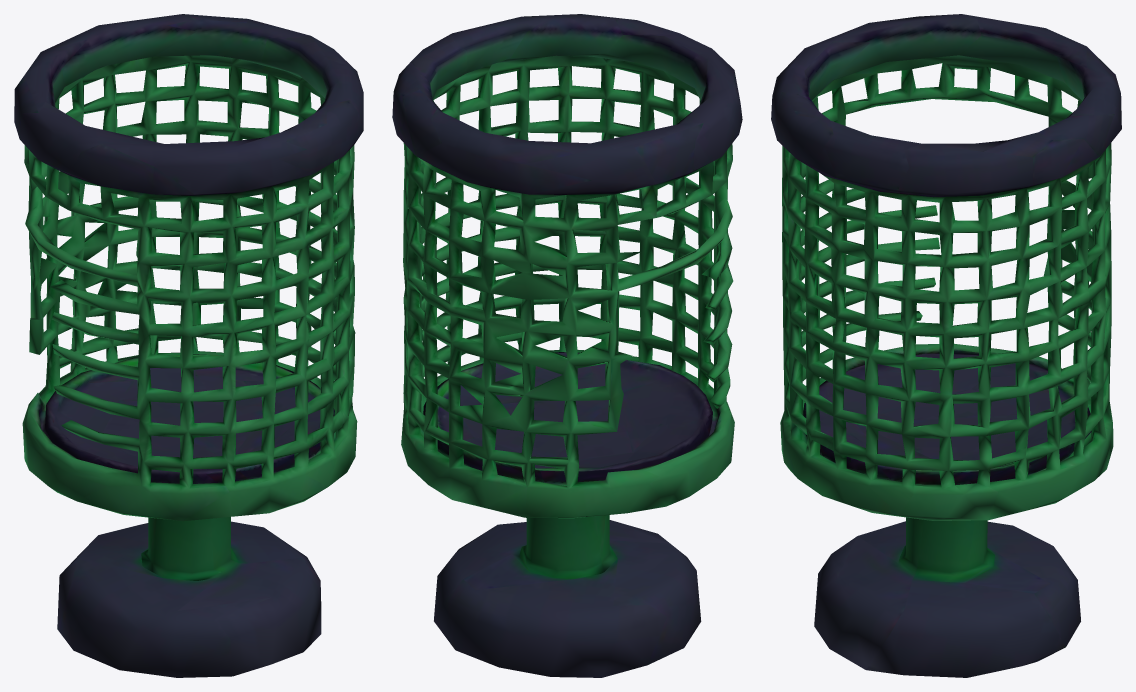
File: bin.glb
The picture shows the model from 3 angles, left to right: view 1: azimuth 30°, elevation 25°; view 2: azimuth 150°, elevation 25°; view 3: azimuth 270°, elevation 25°; orthographic projection.
Parts seen in each view (by area): view 1: tripo_node_97194c4e-5518-4104-9c32-8e674c7fc40c; view 2: tripo_node_97194c4e-5518-4104-9c32-8e674c7fc40c; view 3: tripo_node_97194c4e-5518-4104-9c32-8e674c7fc40c.
Boxes of the visible parts, <box> form: tripo_node_97194c4e-5518-4104-9c32-8e674c7fc40c: <box>14,14,363,677</box>; tripo_node_97194c4e-5518-4104-9c32-8e674c7fc40c: <box>392,14,742,677</box>; tripo_node_97194c4e-5518-4104-9c32-8e674c7fc40c: <box>771,14,1121,677</box>.
Size of the model in its own units: 0.5744 by 0.9797 by 0.572.
1 material, 1 textured.
